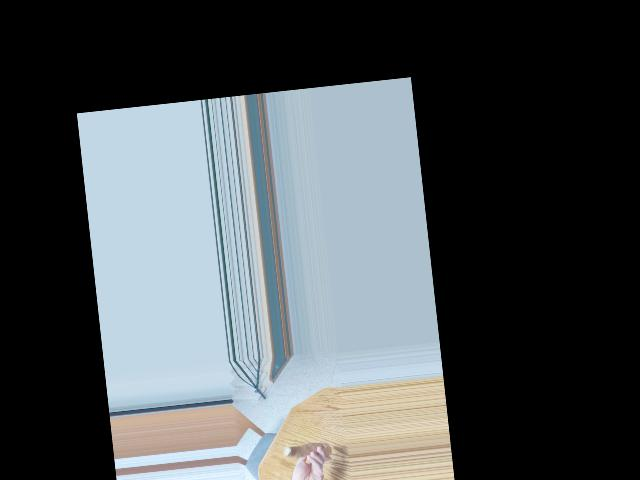sweet_potato: (281, 440, 333, 465)
